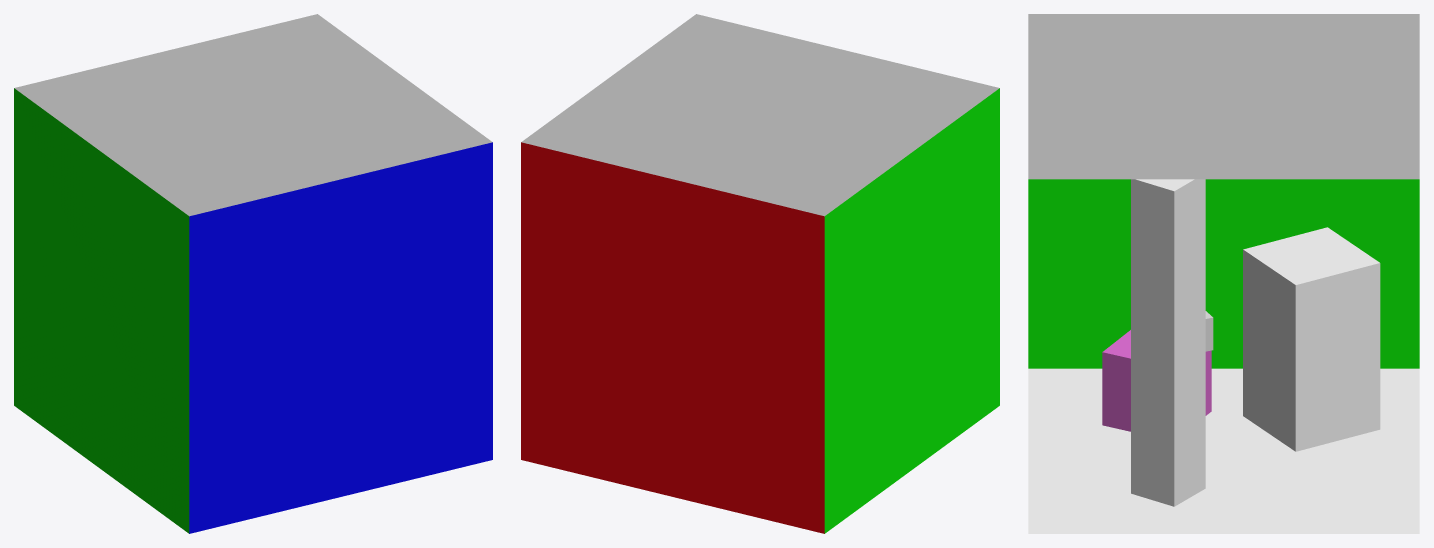
The model's file is cornell-box2.glb.
The picture shows the model from 3 angles, left to right: view 1: azimuth 30°, elevation 25°; view 2: azimuth 150°, elevation 25°; view 3: azimuth 270°, elevation 25°; orthographic projection. The views are drawn at different scales.
Parts seen in each view (by area): view 1: Plane.001, Plane.002, Plane.004; view 2: Plane.003, Plane.002, Plane.004; view 3: Plane.004, Plane, Plane.002, Cube.001, Cube.002, Cube.
Boxes of the visible parts, x1,y1,x2,y2 form: Plane.001: (189, 142, 492, 533); Plane.002: (14, 88, 189, 533); Plane.004: (14, 14, 492, 216); Plane.003: (521, 142, 824, 533); Plane.002: (824, 88, 999, 533); Plane.004: (521, 14, 999, 216); Plane.004: (1028, 14, 1419, 179); Plane: (1028, 368, 1419, 533); Plane.002: (1028, 179, 1419, 368); Cube.001: (1243, 227, 1380, 451); Cube.002: (1131, 179, 1205, 506); Cube: (1102, 330, 1211, 431).
Size of the model in its own units: 40 by 40 by 40.
